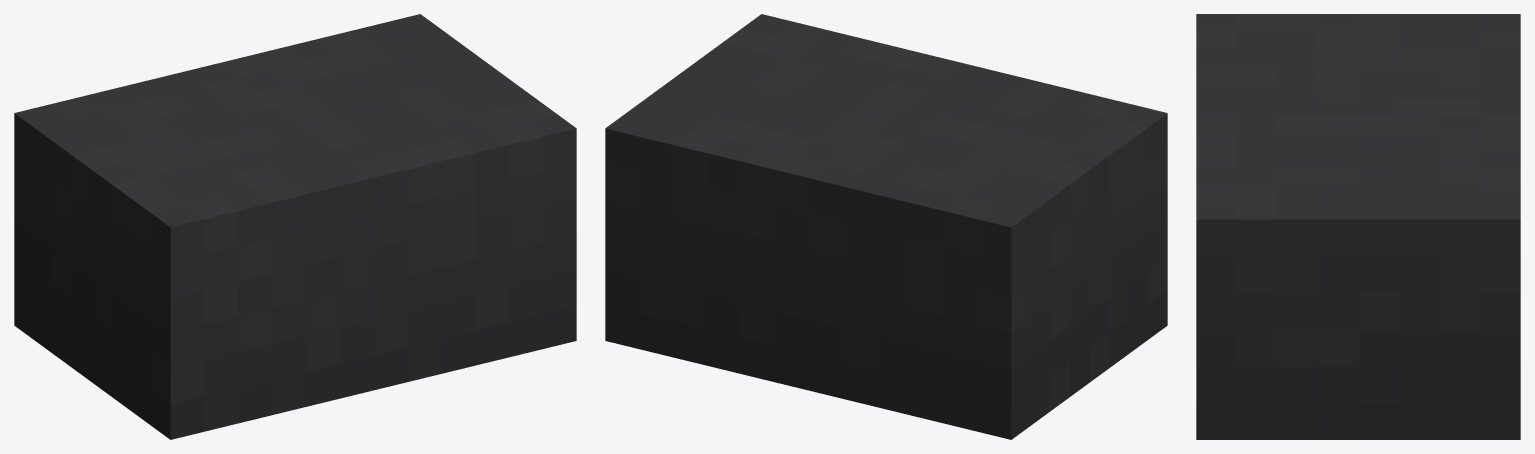
The model's file is Spine058.fbx.
The picture shows the model from 3 angles, left to right: view 1: azimuth 30°, elevation 25°; view 2: azimuth 150°, elevation 25°; view 3: azimuth 270°, elevation 25°; orthographic projection. The views are drawn at different scales.
Parts seen in each view (by area): view 1: Spine058; view 2: Spine058; view 3: Spine058.
Boxes of the visible parts, x1,y1,x2,y2 form: Spine058: [14, 14, 576, 439]; Spine058: [605, 14, 1167, 439]; Spine058: [1196, 14, 1520, 439].
Bounding box in the file's own units: 12 × 6 × 8.
